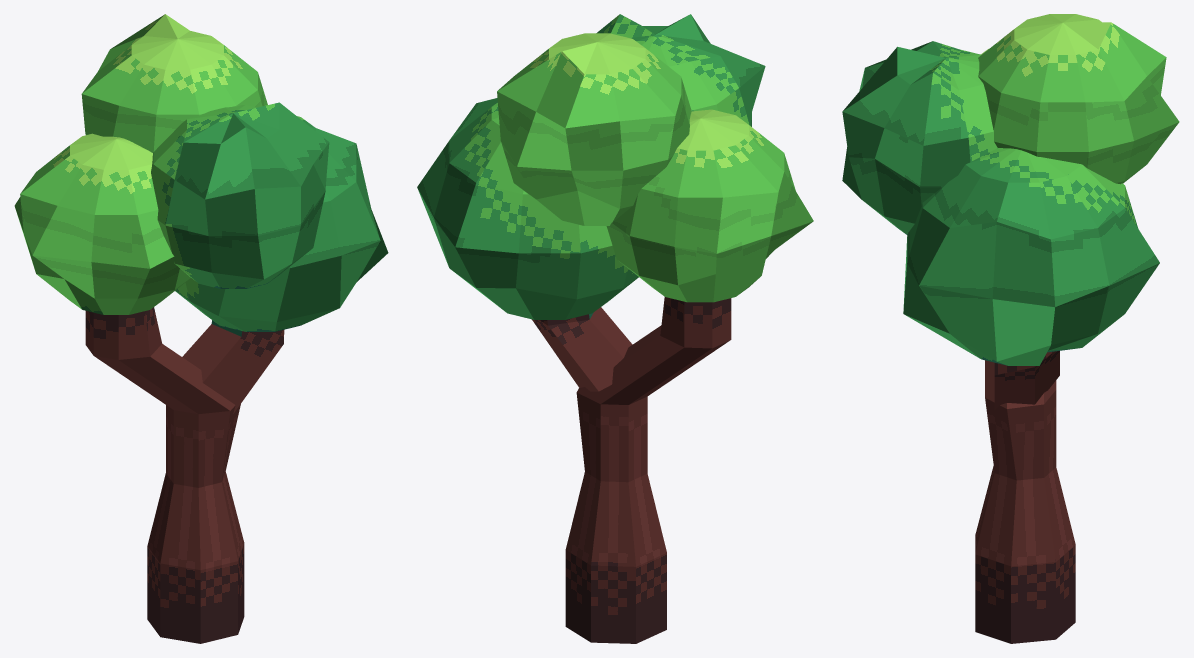
File: tree.gltf
The picture shows the model from 3 angles, left to right: view 1: azimuth 30°, elevation 25°; view 2: azimuth 150°, elevation 25°; view 3: azimuth 270°, elevation 25°; orthographic projection. The views are drawn at different scales.
Visible parts, largest first — view 1: sphere (×4), cylinder (×2); view 2: sphere (×4), cylinder (×2); view 3: sphere (×3), cylinder (×2).
Boxes of the visible parts, x1=… form: sphere (×4): x1=14, y1=14, x2=388, y2=331; cylinder (×2): x1=85, y1=307, x2=284, y2=643; sphere (×4): x1=417, y1=14, x2=813, y2=319; cylinder (×2): x1=532, y1=297, x2=731, y2=643; sphere (×3): x1=842, y1=14, x2=1179, y2=365; cylinder (×2): x1=975, y1=351, x2=1075, y2=643.
Size of the model in its own units: 1.39 by 2.15 by 1.08.
Materials: 1 (1 with a texture image).
